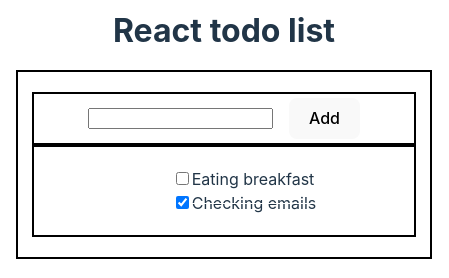
Scenario: Todo spec › If input field is empty show error if clicked on Add button
The width and height of the screenshot is (449, 278).
expect the field is empty: met, box top-left (88, 108), bottom-right (273, 129)
Click the button "Add" at (325, 119), box top-left (289, 98), bottom-right (360, 139)
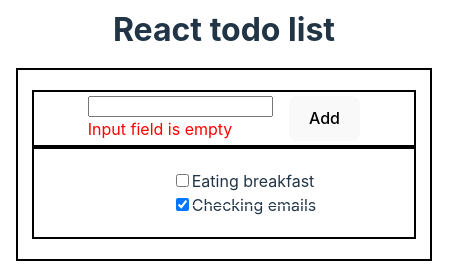
expect the text "Input field is empty" is shown: met, box top-left (88, 119), bottom-right (232, 139)
